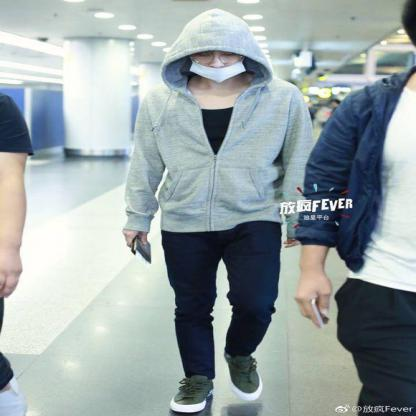Wearing_Mask: (188, 48, 246, 83)
